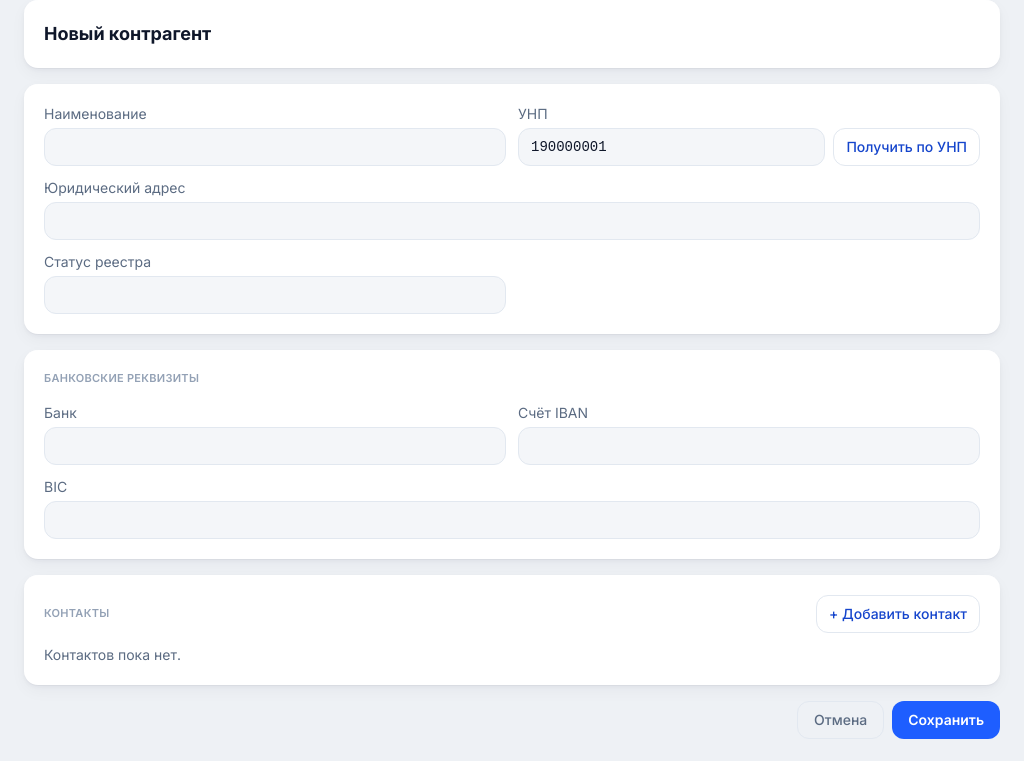
SpravCounterpartyEditor › ошибка сохранения 401 оставляет форму и не навигирует
This screenshot has width=1024, height=761.
Type "Моя компания" into the field named "Наименование компании".
click(275, 147); type("Моя компания")  # box [44, 128, 506, 166]
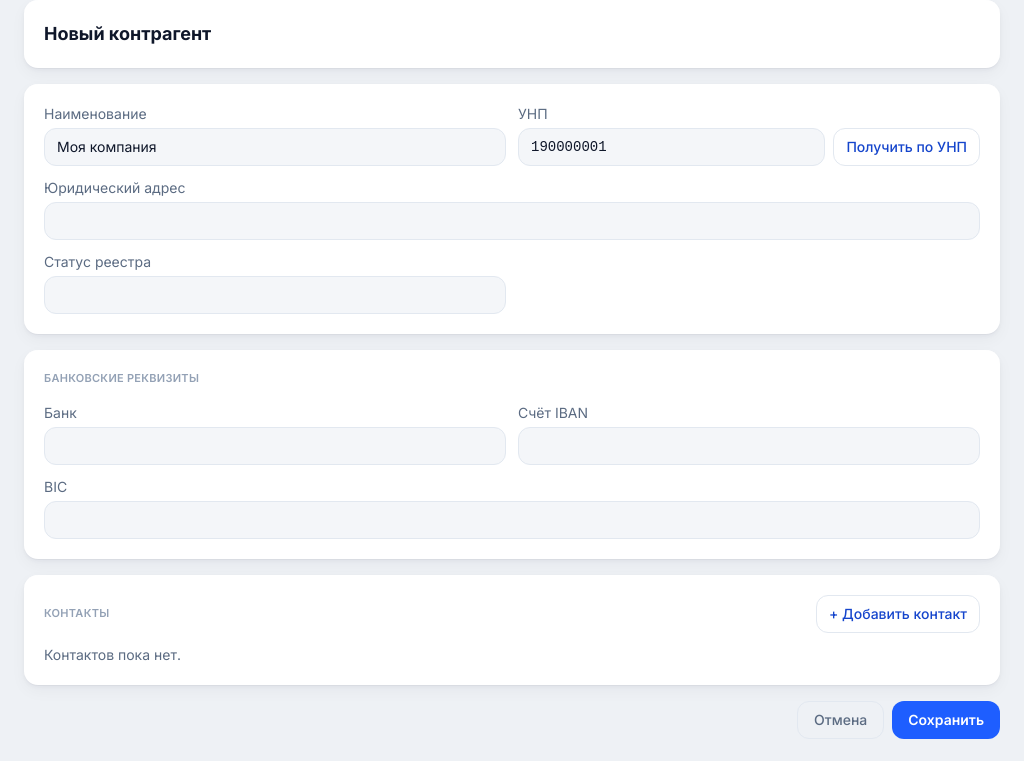
Type "Мой банк" into the field labelled "Банк".
click(275, 446); type("Мой банк")  # box [44, 426, 506, 464]
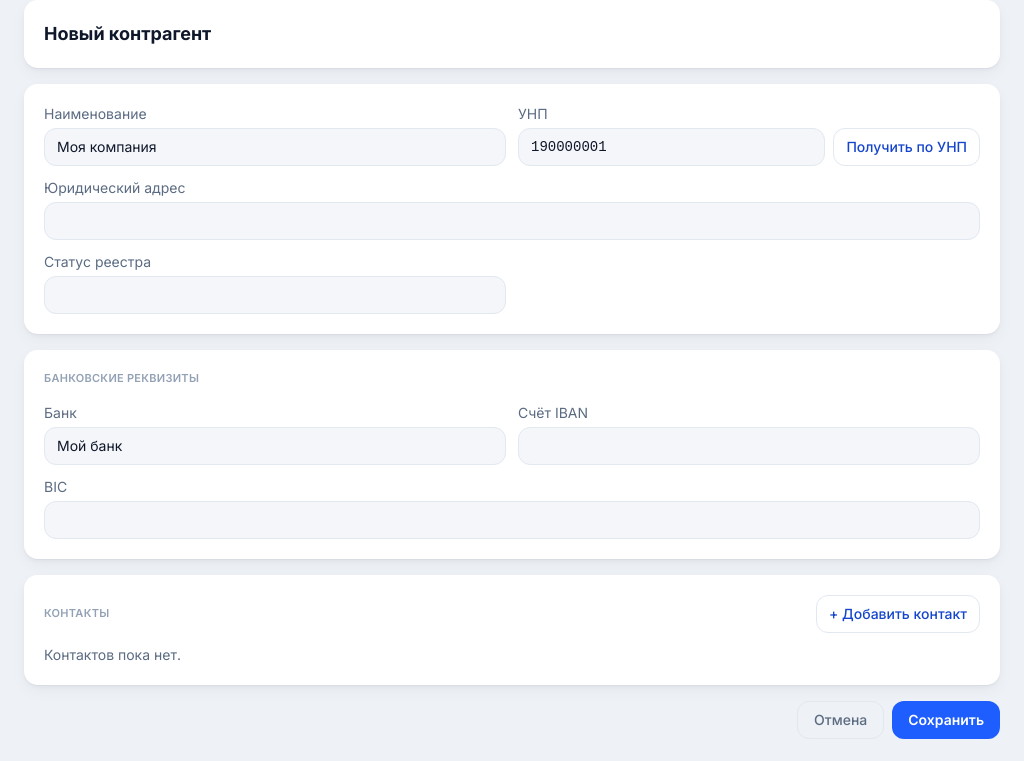
Click the button "Сохранить".
click(946, 720)  # box [892, 700, 1000, 738]
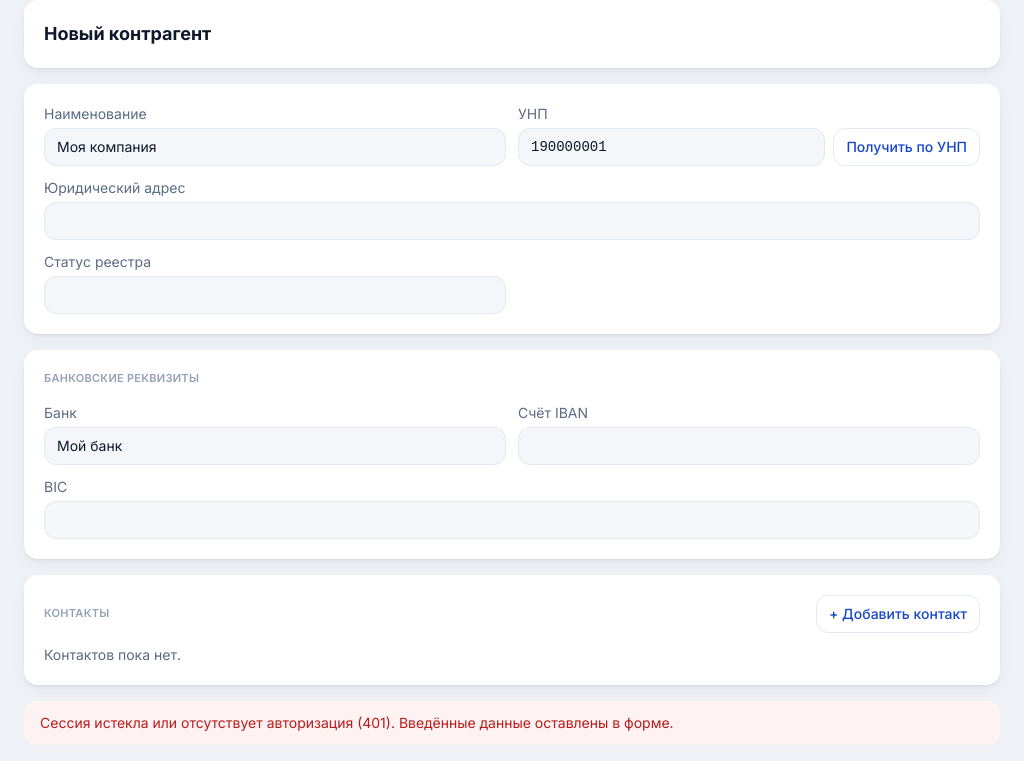
Now the message shows "Сессия истекла или отсутствует авторизация (401).", box [40, 714, 674, 730]
